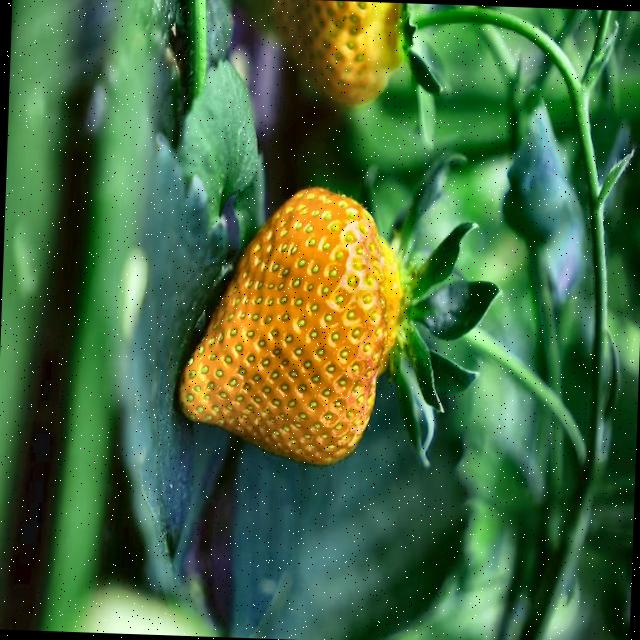strawberry: (178, 187, 402, 464), (270, 0, 403, 105)
